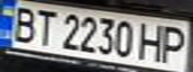0: (115, 17, 139, 59)
2: (54, 10, 81, 52), (75, 12, 100, 55)
3: (97, 16, 118, 56)
B: (6, 3, 42, 43)
H: (136, 19, 169, 62)
P: (157, 22, 193, 64)
T: (30, 7, 60, 47)
